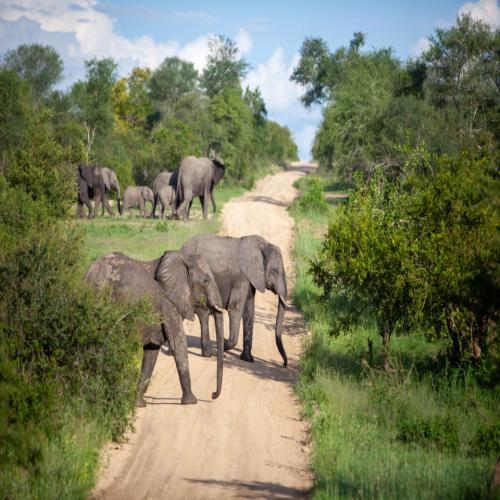asian_elephant-endangered: (77, 244, 226, 408), (180, 234, 299, 372), (180, 148, 228, 220), (72, 159, 104, 225), (94, 162, 122, 221), (123, 179, 154, 219), (154, 178, 180, 220)
